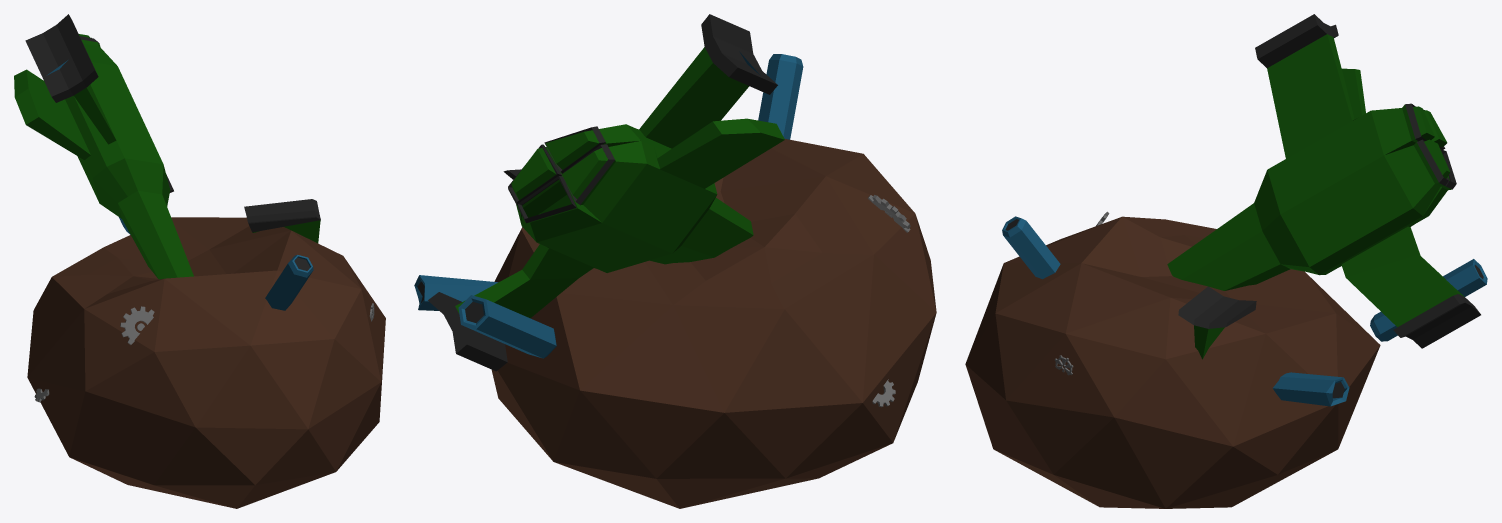
Rendered from Asteroide_con_nave_estrellada.fbx.
The picture shows the model from 3 angles, left to right: view 1: azimuth 30°, elevation 25°; view 2: azimuth 150°, elevation 25°; view 3: azimuth 270°, elevation 25°; orthographic projection. The views are drawn at different scales.
Visible parts, largest first — view 1: Asteroide con nave; view 2: Asteroide con nave; view 3: Asteroide con nave.
Boxes of the visible parts, left/top/right/bottom form: Asteroide con nave: left=14, top=14, right=385, bottom=508; Asteroide con nave: left=414, top=14, right=936, bottom=508; Asteroide con nave: left=965, top=14, right=1487, bottom=508.
Bounding box in the file's own units: 236 × 315 × 334.
2 materials, 2 textured.
